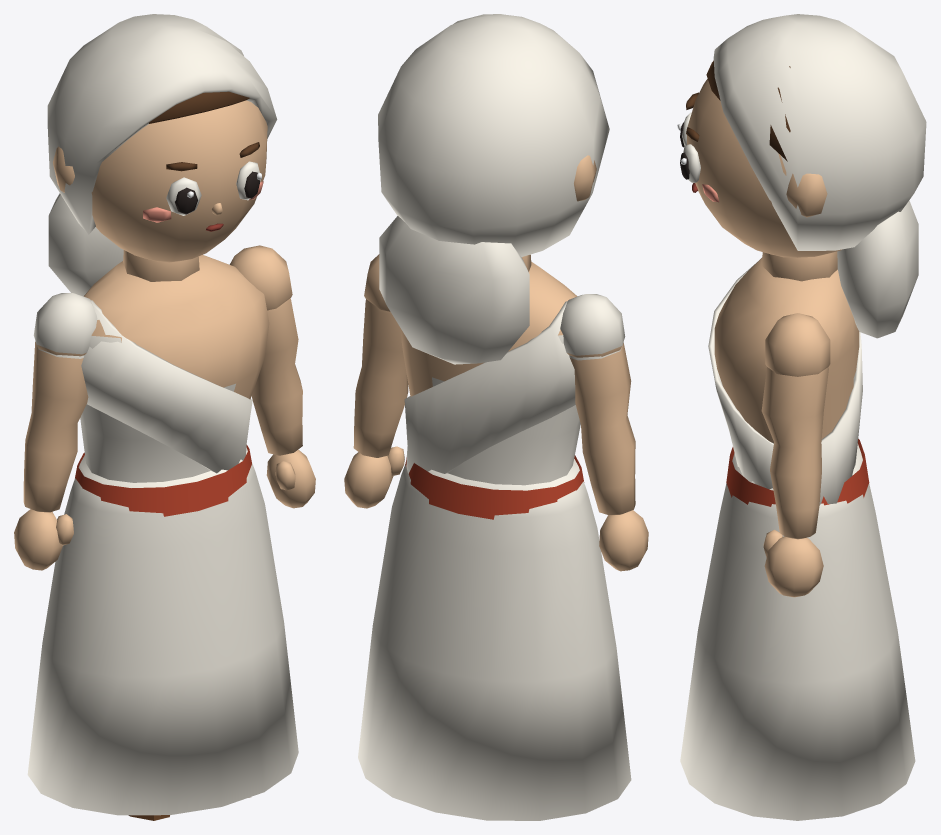
Rendered from vestalin.glb.
3 renders of one model, left to right at view 1: azimuth 30°, elevation 25°; view 2: azimuth 150°, elevation 25°; view 3: azimuth 270°, elevation 25°, orthographic.
Parts seen in each view (by area): view 1: huefte, rumpf, kopfschmuck, kopf, armL, armR, haare, augeL, augeR; view 2: huefte, kopfschmuck, rumpf, armL, armR, kopf; view 3: huefte, kopfschmuck, rumpf, armR, kopf, augeR, haare.
Part boxes in pixels (<box>): huefte: <box>27,447,298,815</box>; rumpf: <box>75,255,269,516</box>; kopfschmuck: <box>47,14,277,296</box>; kopf: <box>53,100,267,281</box>; armL: <box>14,293,97,570</box>; armR: <box>229,245,315,508</box>; haare: <box>148,91,249,123</box>; augeL: <box>166,177,201,215</box>; augeR: <box>236,161,261,200</box>; huefte: <box>358,459,631,820</box>; kopfschmuck: <box>378,14,609,364</box>; rumpf: <box>401,262,584,519</box>; armL: <box>560,294,648,571</box>; armR: <box>344,254,408,508</box>; kopf: <box>522,155,596,271</box>; huefte: <box>680,443,915,820</box>; kopfschmuck: <box>713,14,926,338</box>; rumpf: <box>708,257,869,506</box>; armR: <box>761,313,830,597</box>; kopf: <box>686,79,842,281</box>; augeR: <box>680,144,700,183</box>; haare: <box>706,60,790,161</box>.
Bounding box in the file's own units: 0.9329 × 2.3 × 0.6881.
